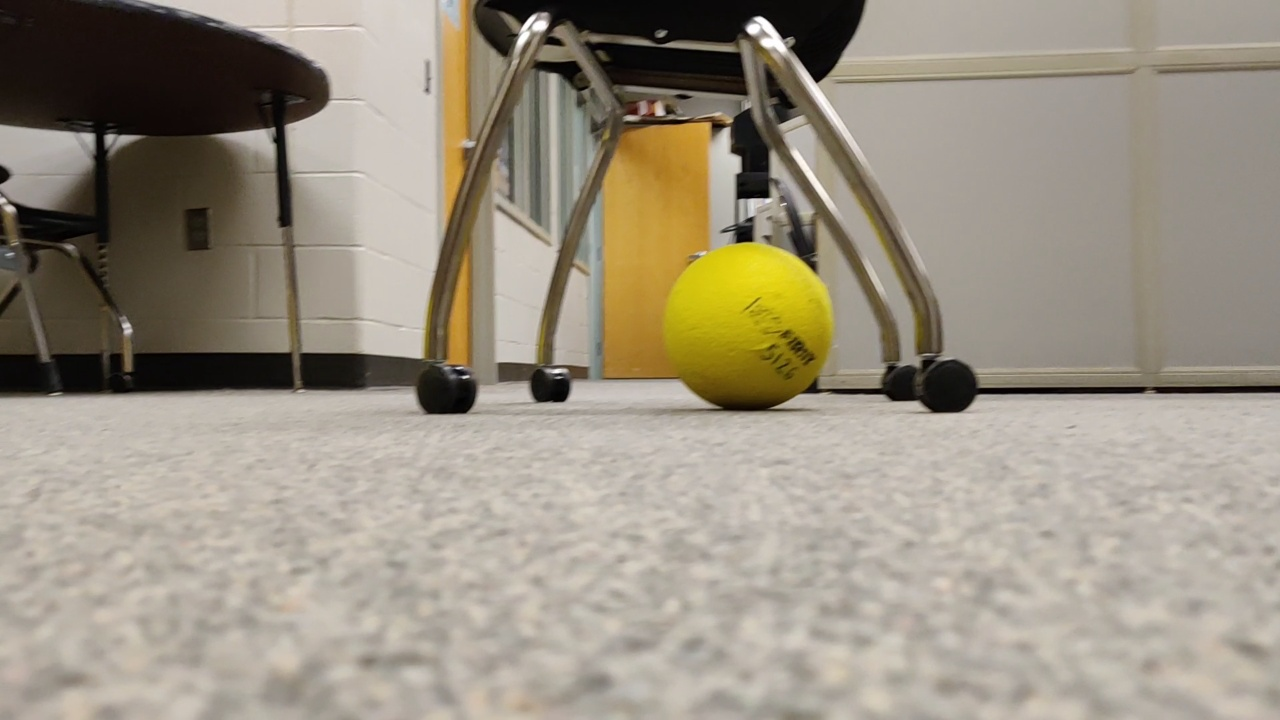Ball: (664, 240, 834, 427)
